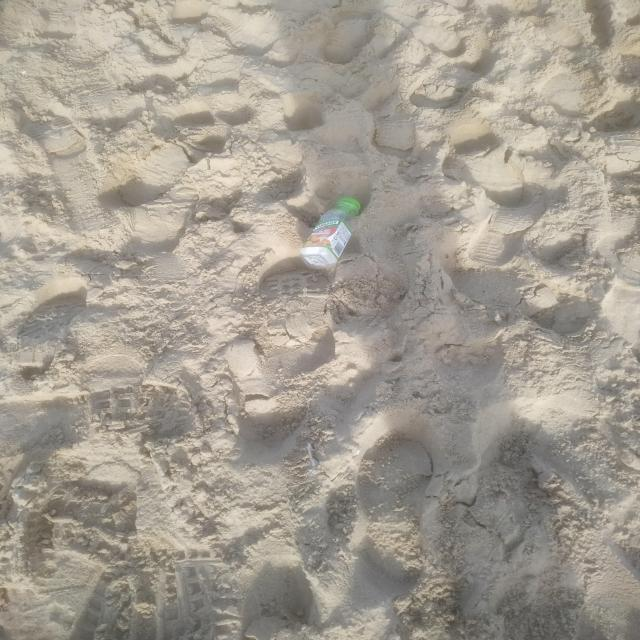litter: (298, 203, 358, 268), (339, 195, 361, 215)
